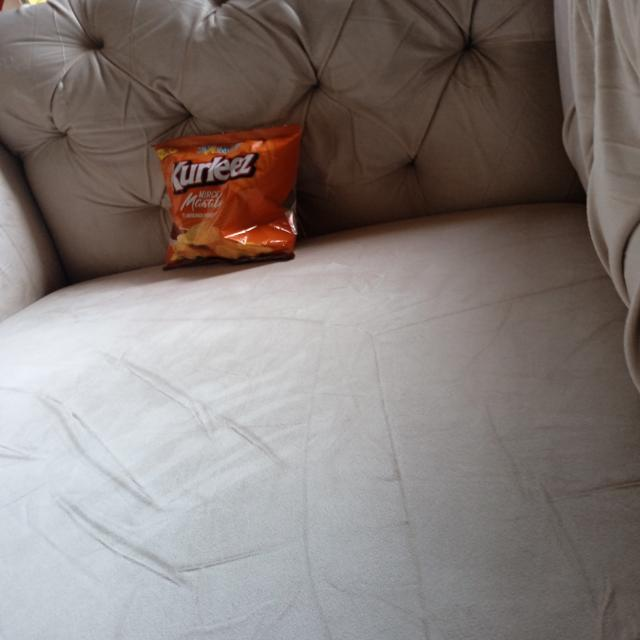Plastic: (160, 130, 298, 262)
